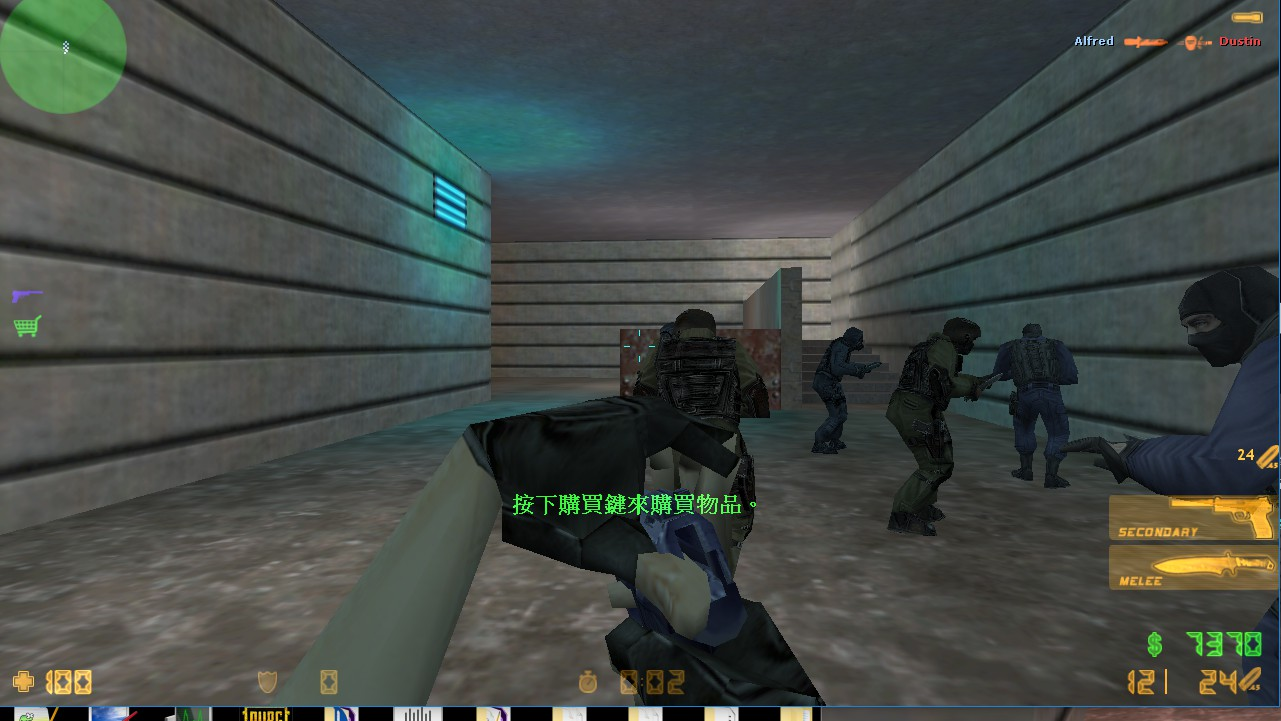person: (1147, 259, 1281, 496), (654, 309, 760, 557), (886, 316, 980, 541), (997, 313, 1078, 492), (808, 321, 871, 457)
